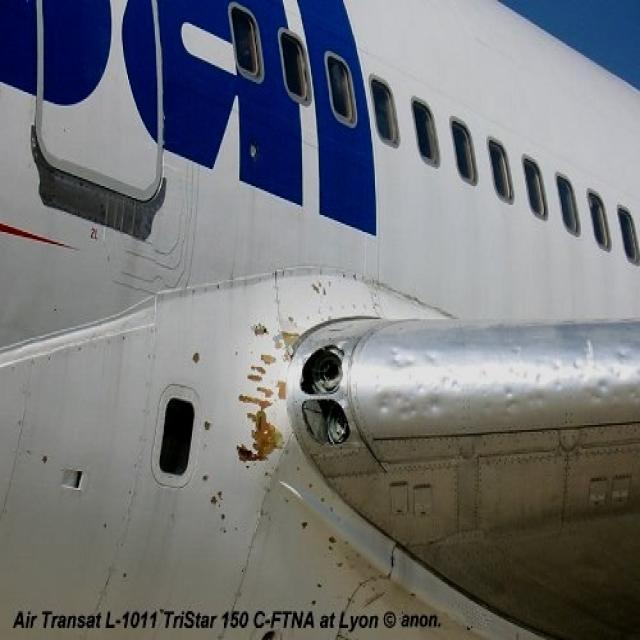dent: (376, 338, 640, 428)
